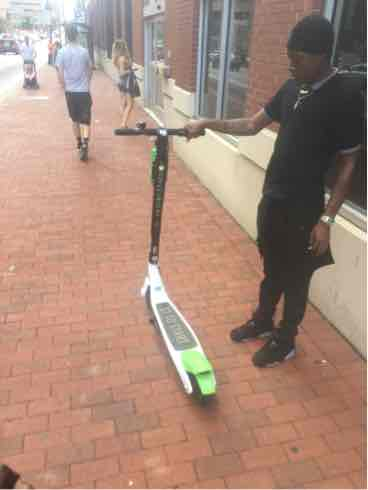scooter: (113, 116, 231, 405)
